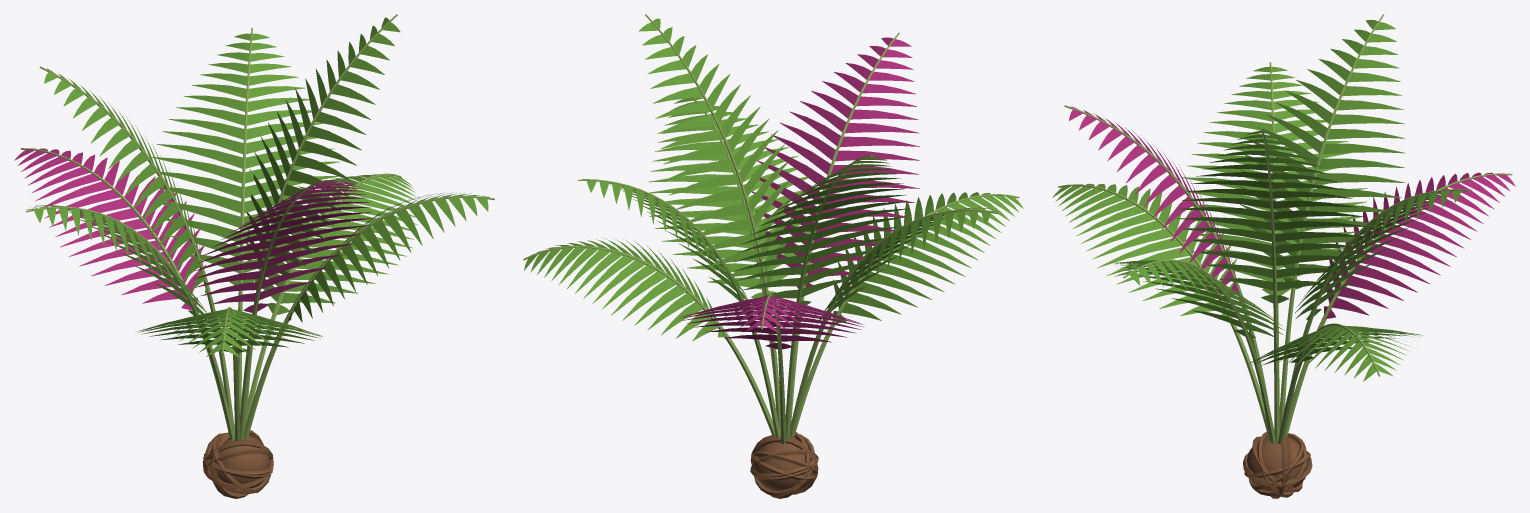
The model's file is JAC_12_Palmeira.glb.
The picture shows the model from 3 angles, left to right: view 1: azimuth 30°, elevation 25°; view 2: azimuth 150°, elevation 25°; view 3: azimuth 270°, elevation 25°; orthographic projection. The views are drawn at different scales.
Parts seen in each view (by area): view 1: JAC_12_Palmeira; view 2: JAC_12_Palmeira; view 3: JAC_12_Palmeira.
Part boxes in pixels (x1,y1,x2,y2): JAC_12_Palmeira: (14,14,494,498); JAC_12_Palmeira: (523,14,1023,498); JAC_12_Palmeira: (1052,14,1515,498).
Size of the model in its own units: 2.29 by 2.28 by 2.18.
